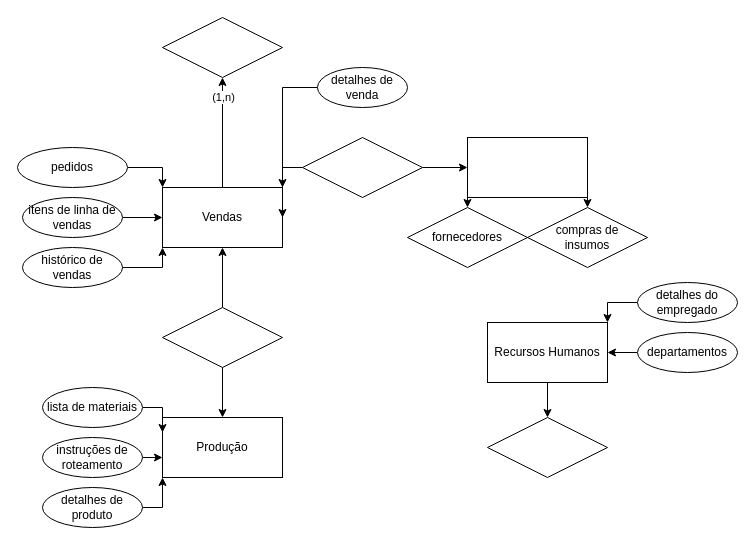
The diagram is 755 pixels wide and 545 high, and some of its shapes have lost their labels. Each missing label, with the centre of its shape:
"clientes" belongs at point 222,47.
"Compras" belongs at point 527,167.
"demanda" belongs at point 222,337.
"Funcionarios" belongs at point 547,447.
"gestão" belongs at point 362,167.
